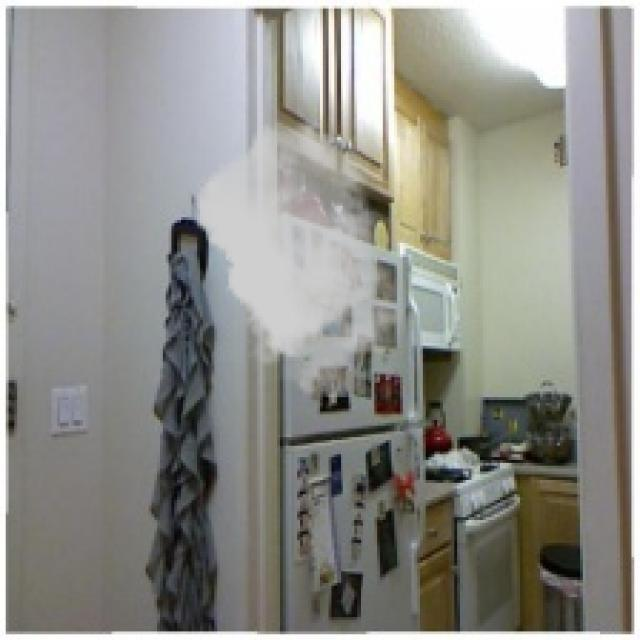Smoke: (197, 120, 406, 397)
